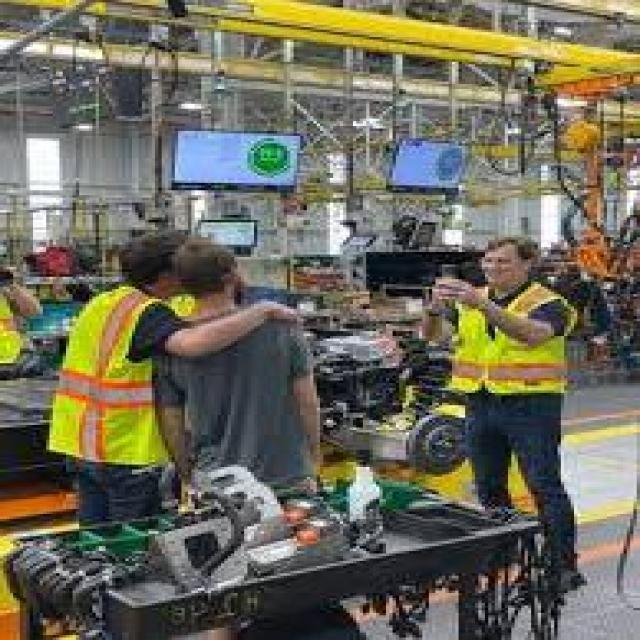reflective_jacket: (36, 279, 197, 476), (428, 279, 590, 415)
